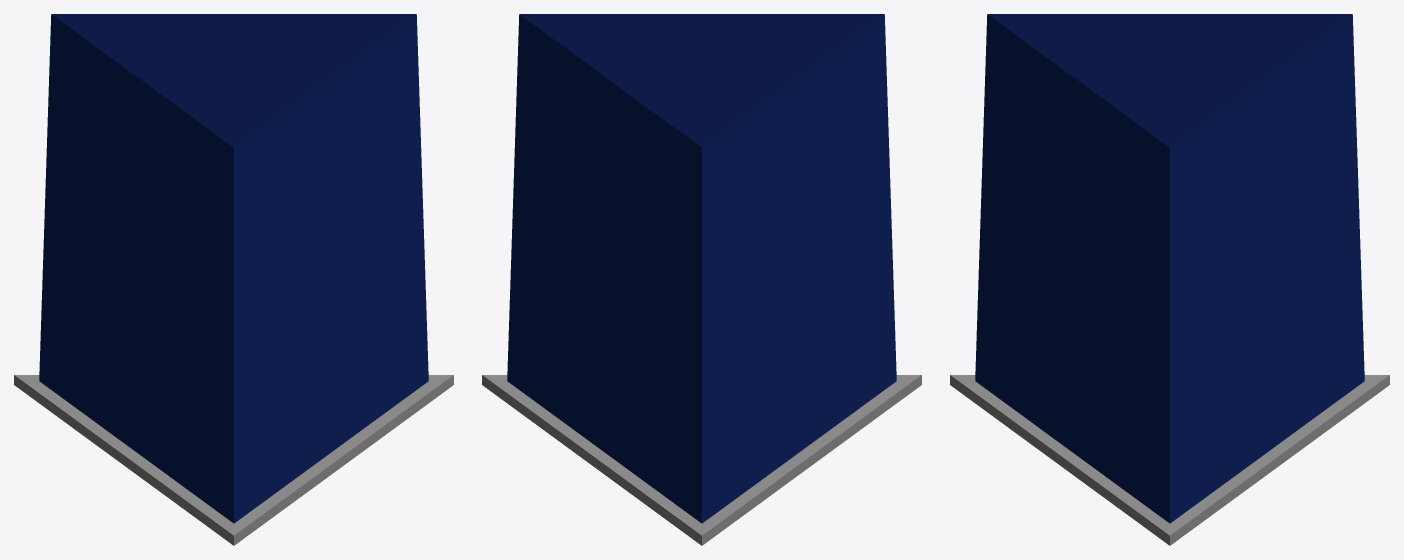
Rendered from Portal.FBX.
3 renders of one model, left to right at view 1: azimuth 30°, elevation 25°; view 2: azimuth 150°, elevation 25°; view 3: azimuth 270°, elevation 25°, orthographic.
Parts seen in each view (by area): view 1: Portal_Light, Portal_Base; view 2: Portal_Light, Portal_Base; view 3: Portal_Light, Portal_Base.
Part boxes in pixels (left/top/right/bottom): Portal_Light: left=39, top=14, right=428, bottom=523; Portal_Base: left=14, top=375, right=453, bottom=545; Portal_Light: left=507, top=14, right=896, bottom=523; Portal_Base: left=482, top=375, right=921, bottom=545; Portal_Light: left=975, top=14, right=1364, bottom=523; Portal_Base: left=950, top=375, right=1389, bottom=545.
Bounding box in the file's own units: 0.4267 × 0.47 × 0.4928.
